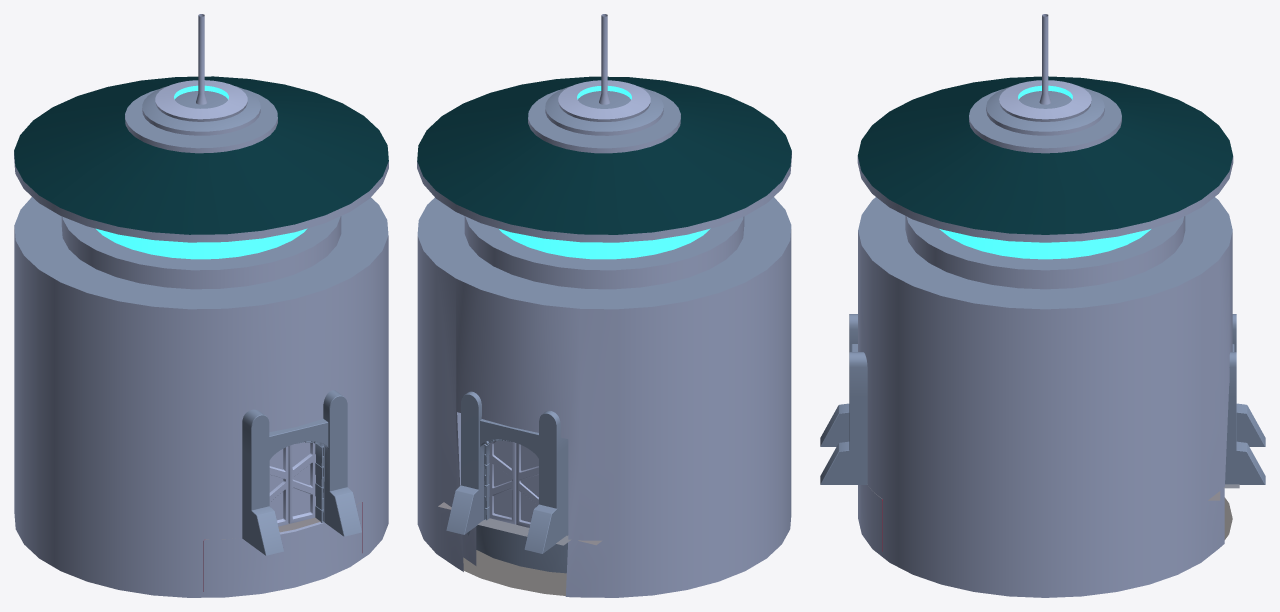
The model's file is Blocking_Transition_TourFinale_Passe.fbx.
3 views of the same model, side by side, from view 1: azimuth 30°, elevation 25°; view 2: azimuth 150°, elevation 25°; view 3: azimuth 270°, elevation 25° (orthographic).
Parts seen in each view (by area): view 1: TourPart1.003, ContourGrandePorteHultra.Low.001, Porte2.Low.001, Porte1.Low.001; view 2: TourPart1.003, ContourGrandePorteHultra.Low, TunnelTour.001, SolTour.001, Porte2.Low, Porte1.Low, Sol.070; view 3: TourPart1.003, ContourGrandePorteHultra.Low.001, ContourGrandePorteHultra.Low.
Boxes of the visible parts, x1,y1,x2,y2 form: TourPart1.003: (14, 14, 388, 597); ContourGrandePorteHultra.Low.001: (242, 390, 361, 555); Porte2.Low.001: (288, 442, 315, 523); Porte1.Low.001: (269, 446, 288, 526); TourPart1.003: (417, 14, 791, 597); ContourGrandePorteHultra.Low: (446, 391, 568, 553); TunnelTour.001: (467, 525, 567, 573); SolTour.001: (463, 550, 566, 595); Porte2.Low: (489, 440, 516, 524); Porte1.Low: (516, 443, 538, 527); Sol.070: (478, 518, 571, 545); TourPart1.003: (857, 14, 1233, 597); ContourGrandePorteHultra.Low.001: (820, 314, 867, 484); ContourGrandePorteHultra.Low: (1225, 314, 1265, 484).
Bounding box in the file's own units: 26.65 × 39.43 × 31.63.
